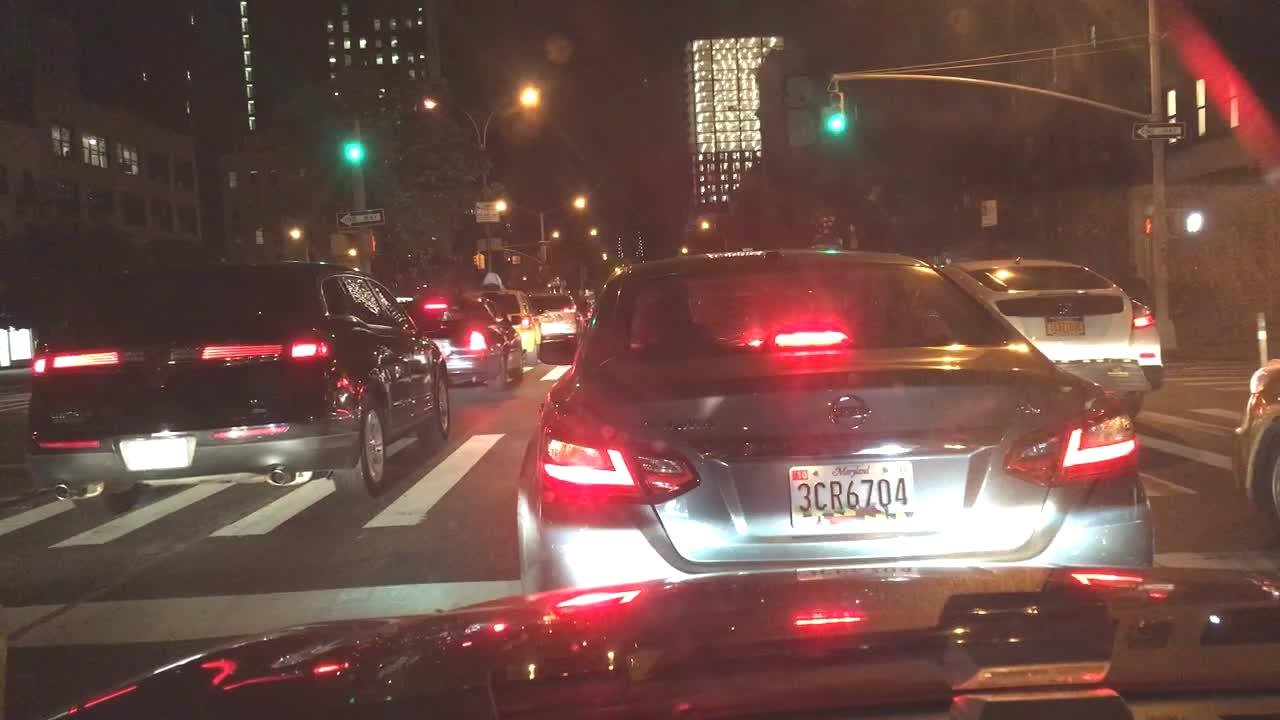Nissan: (824, 393, 881, 435)
